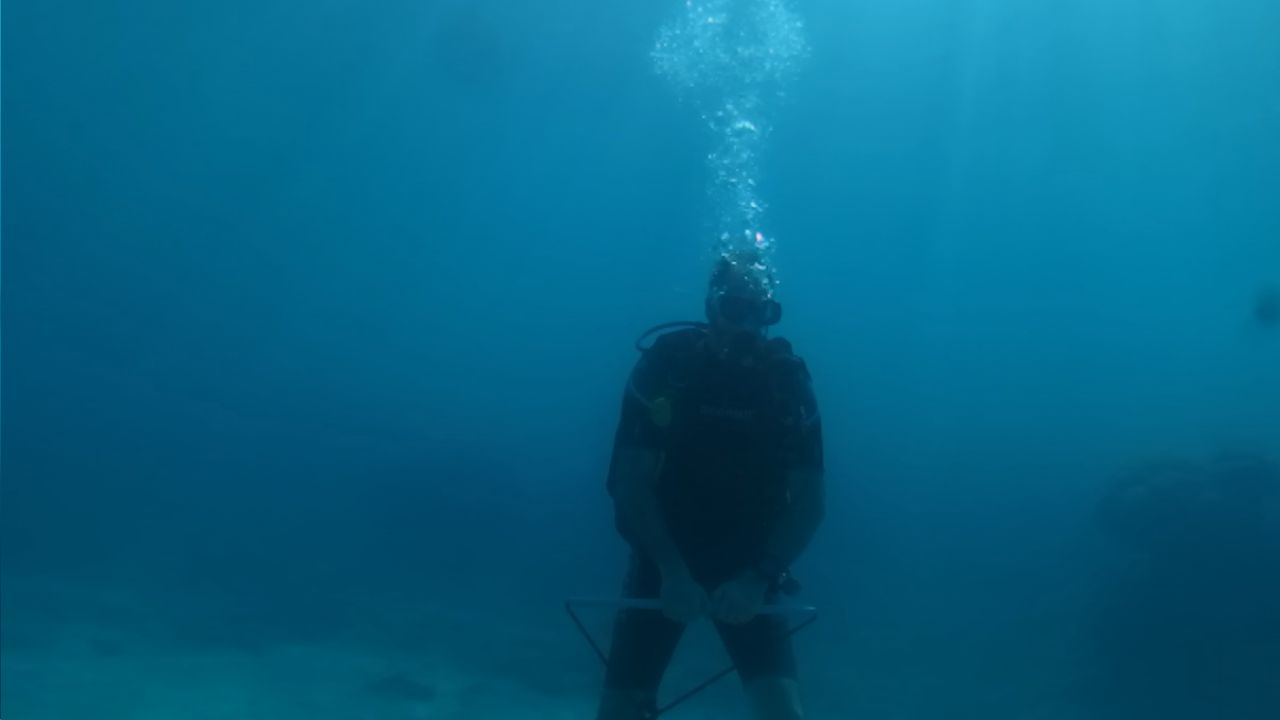Diver: (534, 202, 914, 716)
